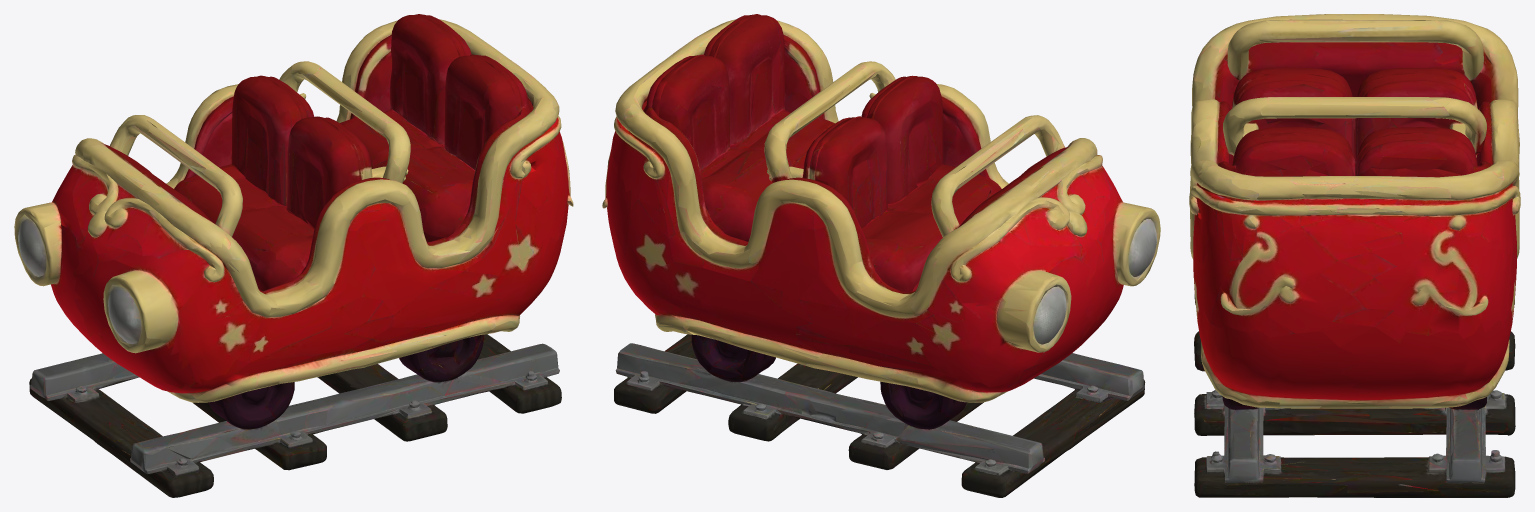
Rendered from vagoneta.glb.
3 views of the same model, side by side, from view 1: azimuth 30°, elevation 25°; view 2: azimuth 150°, elevation 25°; view 3: azimuth 270°, elevation 25° (orthographic). The views are drawn at different scales.
Parts seen in each view (by area): view 1: output_unwrapped; view 2: output_unwrapped; view 3: output_unwrapped.
Boxes of the visible parts, <box> form: output_unwrapped: <box>14,14,573,497</box>; output_unwrapped: <box>602,14,1160,497</box>; output_unwrapped: <box>1189,14,1520,497</box>.
Bounding box in the file's own units: 1.9 × 1.26 × 1.07.
Materials: 1 (1 with a texture image).
